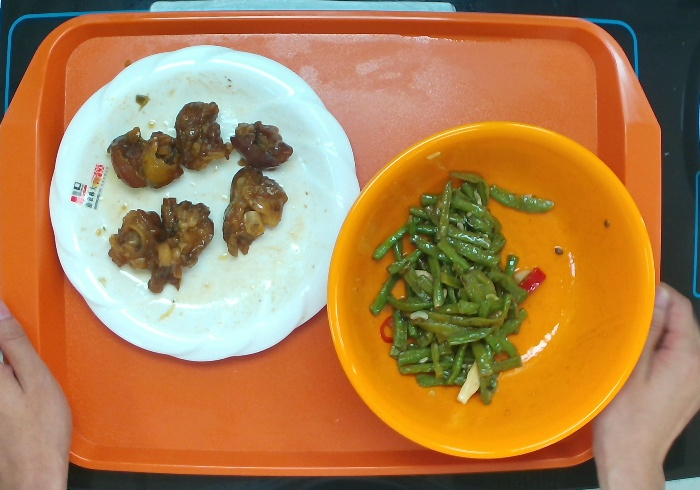ZNLD-Hua_Bian_Wan: (45, 42, 365, 367)
ZNLD-Ju_Se_Tang_Wan: (321, 114, 662, 465)
